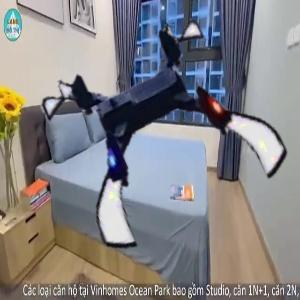drone: (61, 28, 272, 239)
